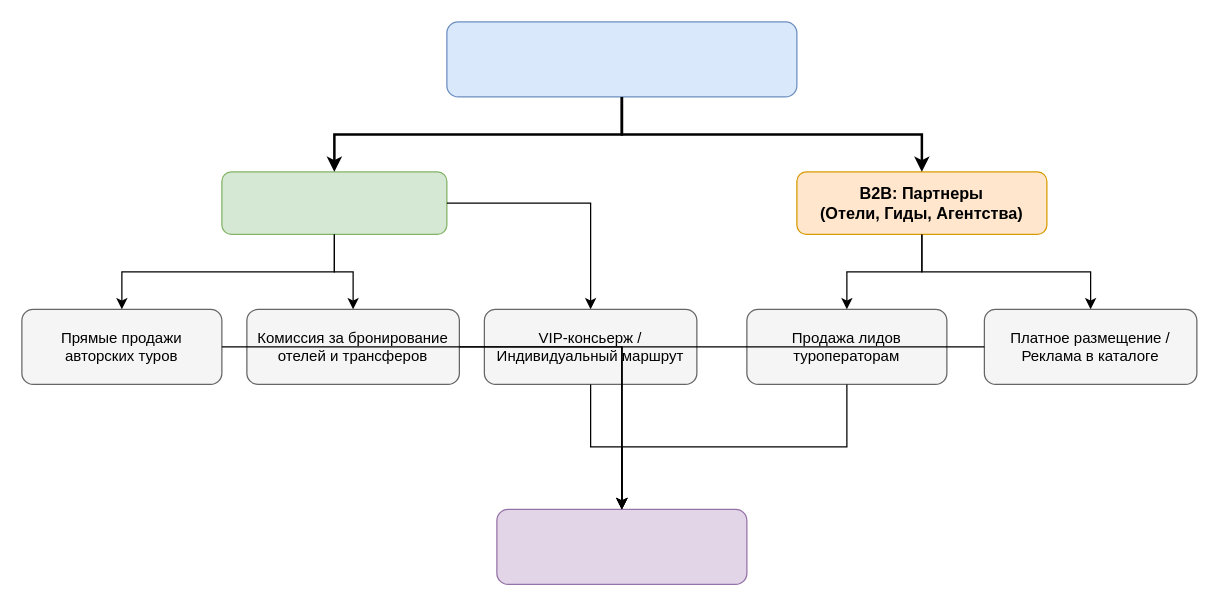
This 1219x606 diagram has some shape labels left out. Each missing label, with the box of its shape:
B2C: Туристы: (221, 171, 447, 234)
Выручка компании: (496, 508, 747, 584)
Трафик world-travel.uz (SEO, SMM, Реклама): (446, 21, 797, 97)
